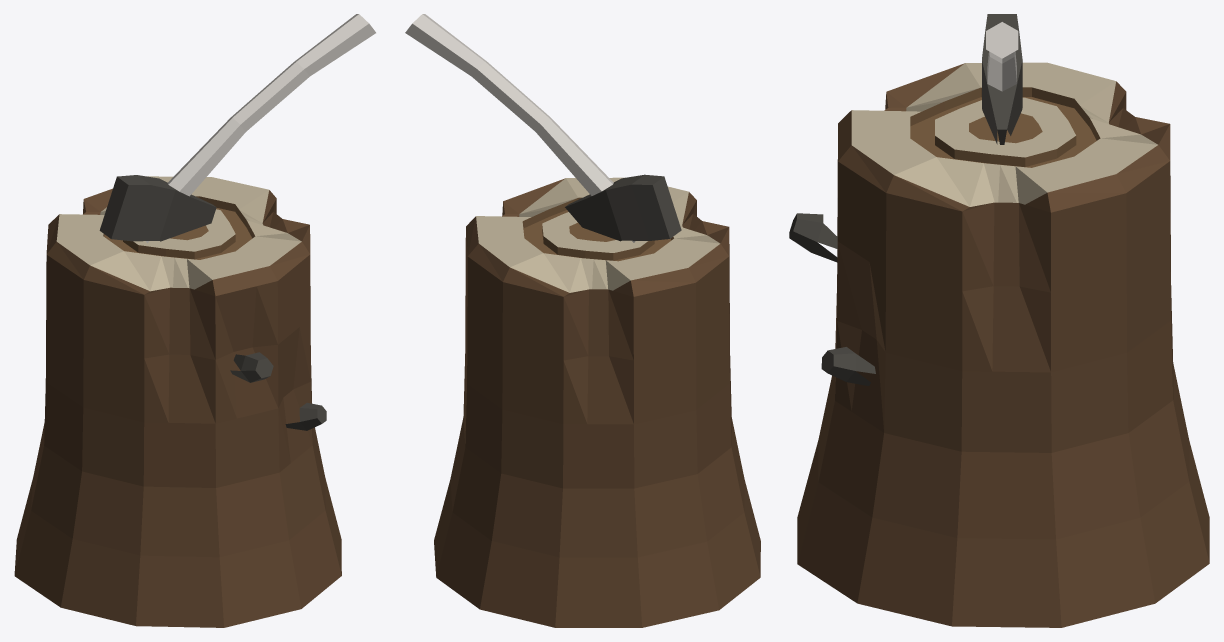
The model's file is chopping-block-073b5e.glb.
3 views of the same model, side by side, from view 1: azimuth 30°, elevation 25°; view 2: azimuth 150°, elevation 25°; view 3: azimuth 270°, elevation 25° (orthographic). The views are drawn at different scales.
Visible parts, largest first — view 1: block-mesh, axe-mesh; view 2: block-mesh, axe-mesh; view 3: block-mesh, axe-mesh.
Boxes of the visible parts, box(x1,y1,x2,y2) form: block-mesh: box(14, 176, 341, 627); axe-mesh: box(99, 14, 375, 243); block-mesh: box(434, 177, 760, 627); axe-mesh: box(405, 14, 681, 242); block-mesh: box(789, 62, 1209, 627); axe-mesh: box(982, 14, 1022, 144).
Bounding box in the file's own units: 0.5956 × 0.8506 × 0.5163.
